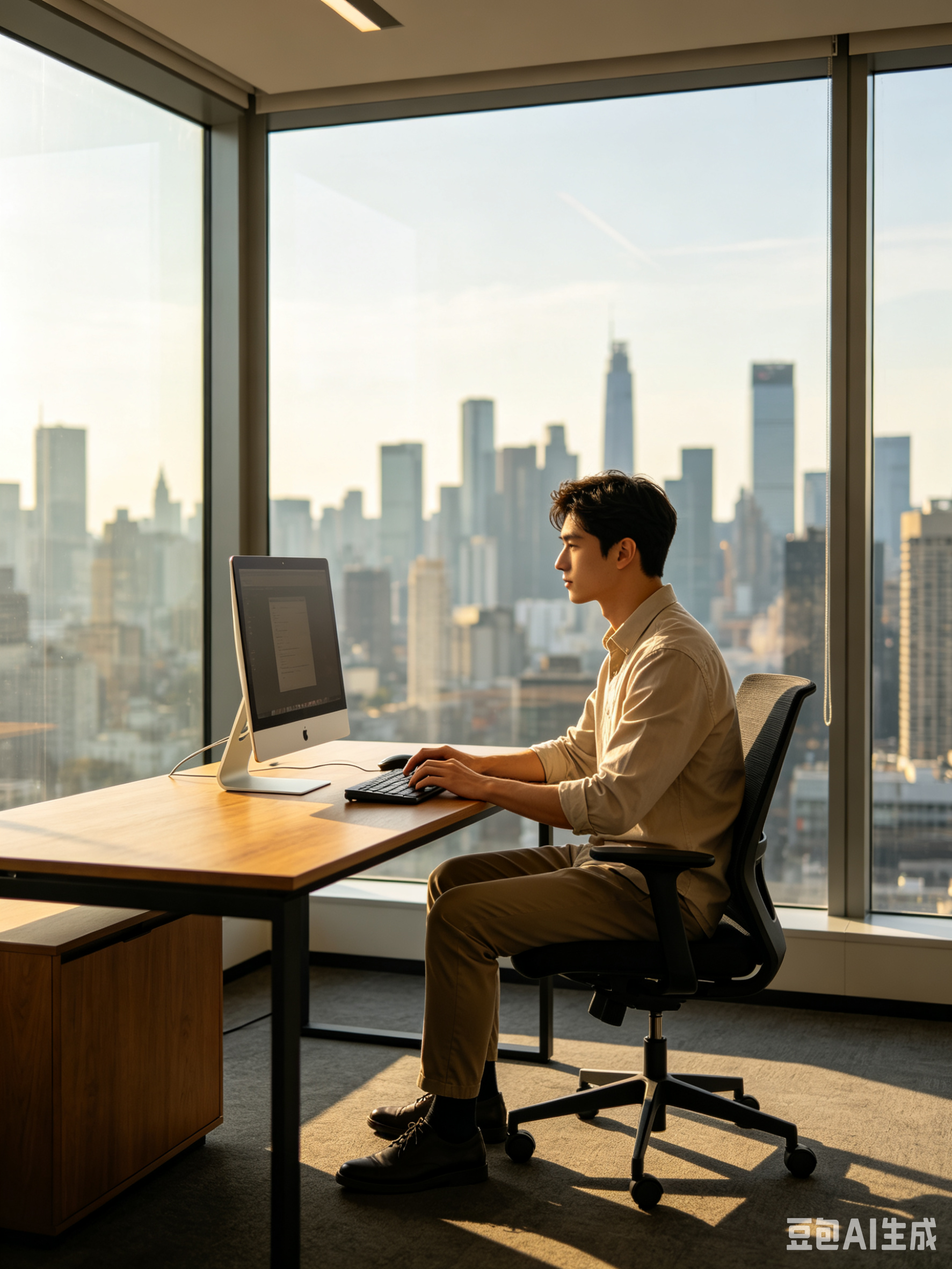sitting_good: (361, 485, 740, 1163)
